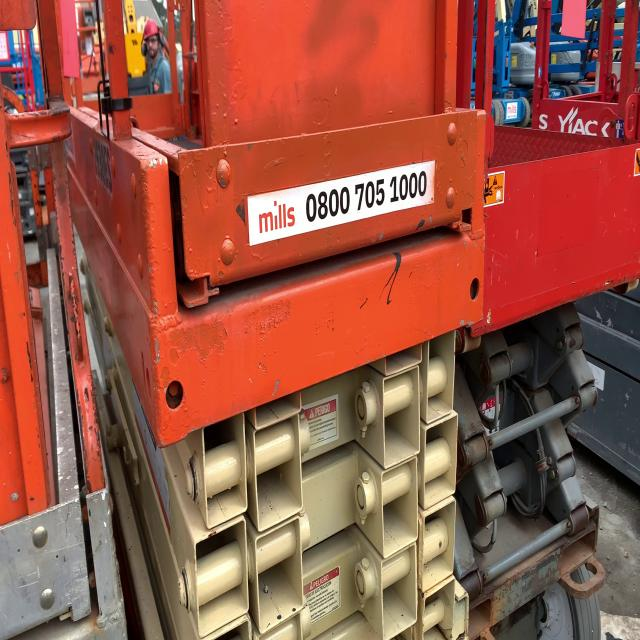Adesivo Longo: (246, 158, 436, 249)
